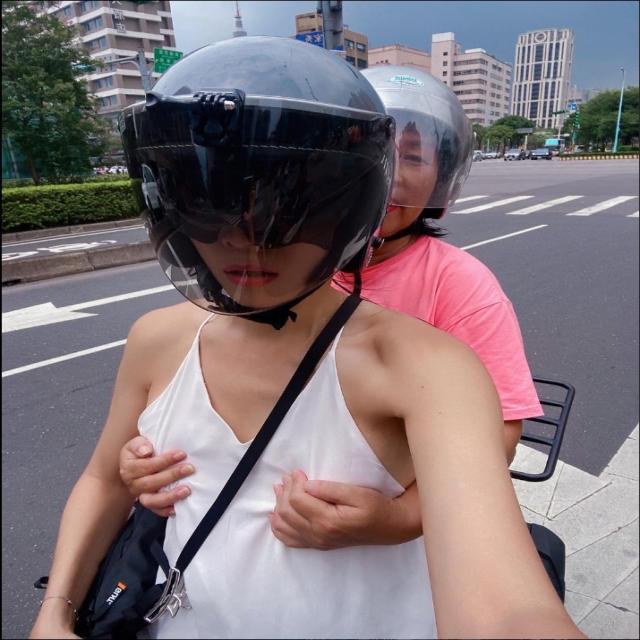helmet: (110, 30, 404, 337)
